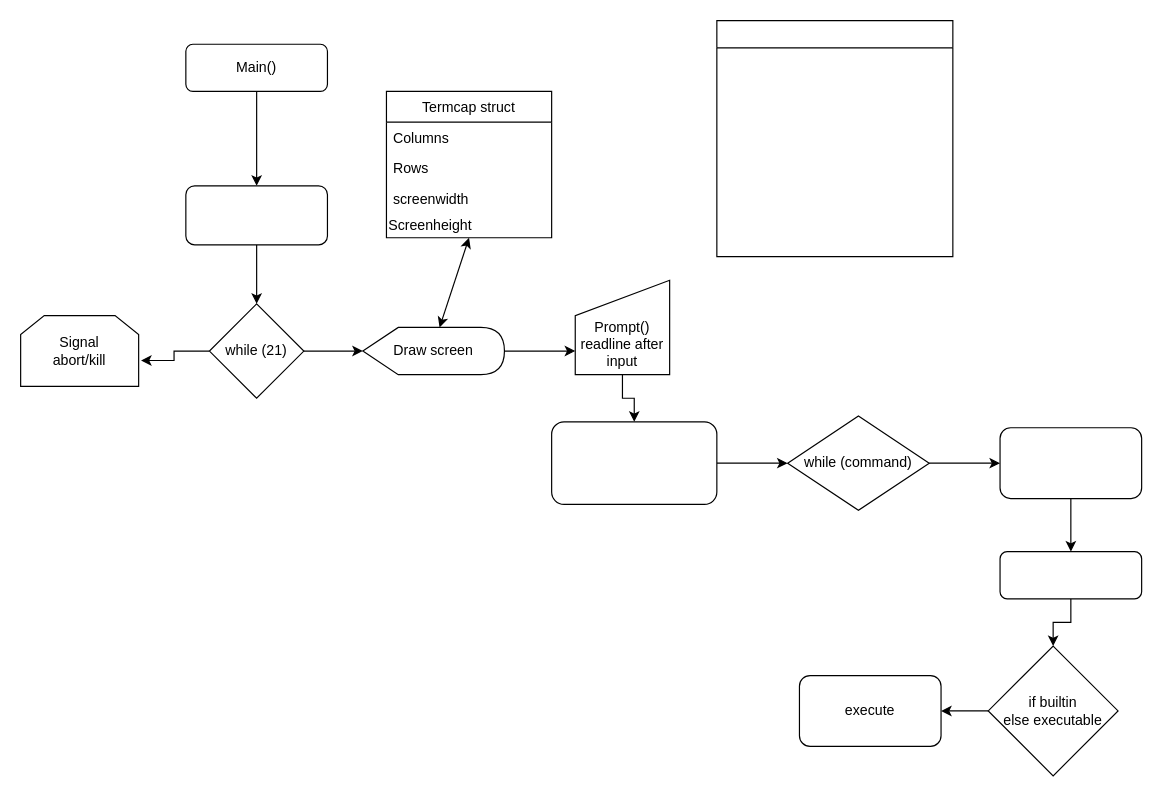
The diagram is 1162 pixels wide and 796 high, and some of its shapes have lost their labels. The box of each missing label's shape, as (x1, y1, x2, y2) in pixels:
21sh(): (185, 185, 327, 245)
Container: (716, 19, 953, 257)
expansion(): (999, 550, 1142, 599)
Seperate ; commands: (550, 421, 717, 504)
Seperate arguments (" ") & (' ') single arg: (999, 427, 1142, 499)
